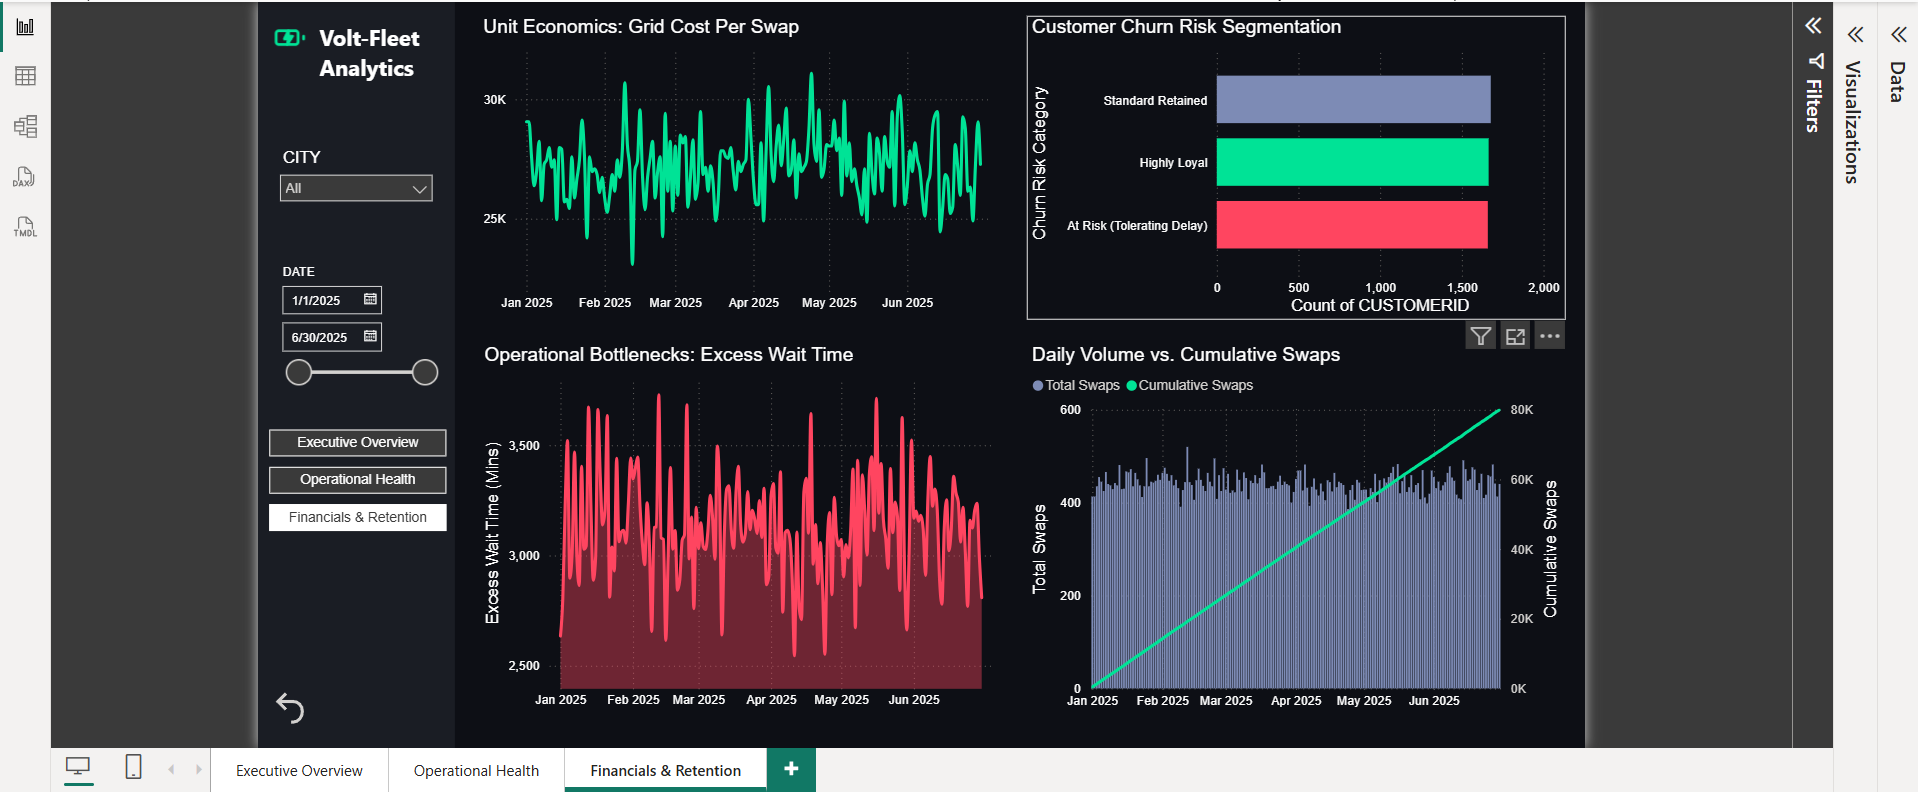

The page's visual inventory and layout, read from the dashboard file:
{"tool":"powerbi","page":{"name":"Financials & Retention","canvas":[1280,720],"ordinal":2},"visuals":[{"type":"shape","box":[0,0,190,720.2],"z":0},{"type":"slicer","fields":{"Values":["DIM_STATIONS.CITY"]},"box":[10.6,136.8,167.7,80.8],"z":1000},{"type":"pageNavigator","box":[10.6,413.1,171,100],"z":2000},{"type":"lineChart","title":"Unit Economics: Grid Cost Per Swap","fields":{"Y":["VW_CLEAN_SWAPS.Grid Cost per Swap"],"Category":["VW_CLEAN_SWAPS.DATE"]},"box":[212.3,13.3,515.2,293.2],"z":3000},{"type":"clusteredBarChart","title":"Customer Churn Risk Segmentation","fields":{"Y":["Count(VW_CLEAN_CUSTOMERS.CUSTOMERID)"],"Category":["VW_CLEAN_CUSTOMERS.Churn Risk Category"]},"box":[742,13.3,520,293.2],"z":4000},{"type":"areaChart","title":"Operational Bottlenecks: Excess Wait Time","fields":{"Y":["VW_CLEAN_SWAPS.Excess Wait Time (Mins)"],"Category":["VW_CLEAN_SWAPS.DATE"]},"box":[213.5,329.4,515.2,360.7],"z":5000},{"type":"lineStackedColumnComboChart","title":"Daily Volume vs. Cumulative Swaps","fields":{"Y":["VW_CLEAN_SWAPS.Total Swaps"],"Category":["VW_CLEAN_SWAPS.DATE"],"Y2":["VW_CLEAN_SWAPS.Cumulative Swaps"]},"box":[742,329,520,361],"z":6000},{"type":"slicer","fields":{"Values":["VW_CLEAN_SWAPS.DATE"]},"box":[10.6,248.4,171.3,133.9],"z":7000},{"type":"textbox","box":[54.3,14.5,124.3,96.5],"z":8000},{"type":"actionButton","box":[10.9,14.5,43.4,39.8],"z":9000},{"type":"actionButton","box":[11.1,660.9,100.2,40.3],"z":9001}]}

Visuals, with their boxes on the page's 1280x720 design canvas (x1, y1, x2, y2). These are canvas units, not pixel positions in the 1918x792 screenshot, which may show the page scaled, cropped or inside an application window:
shape: 0 0 190 720
slicer - DIM_STATIONS.CITY: 11 137 178 218
pageNavigator: 11 413 182 513
"Unit Economics: Grid Cost Per Swap" lineChart: 212 13 728 306
"Customer Churn Risk Segmentation" clusteredBarChart: 742 13 1262 306
"Operational Bottlenecks: Excess Wait Time" areaChart: 214 329 729 690
"Daily Volume vs. Cumulative Swaps" lineStackedColumnComboChart: 742 329 1262 690
slicer - VW_CLEAN_SWAPS.DATE: 11 248 182 382
textbox: 54 14 179 111
actionButton: 11 14 54 54
actionButton: 11 661 111 701
